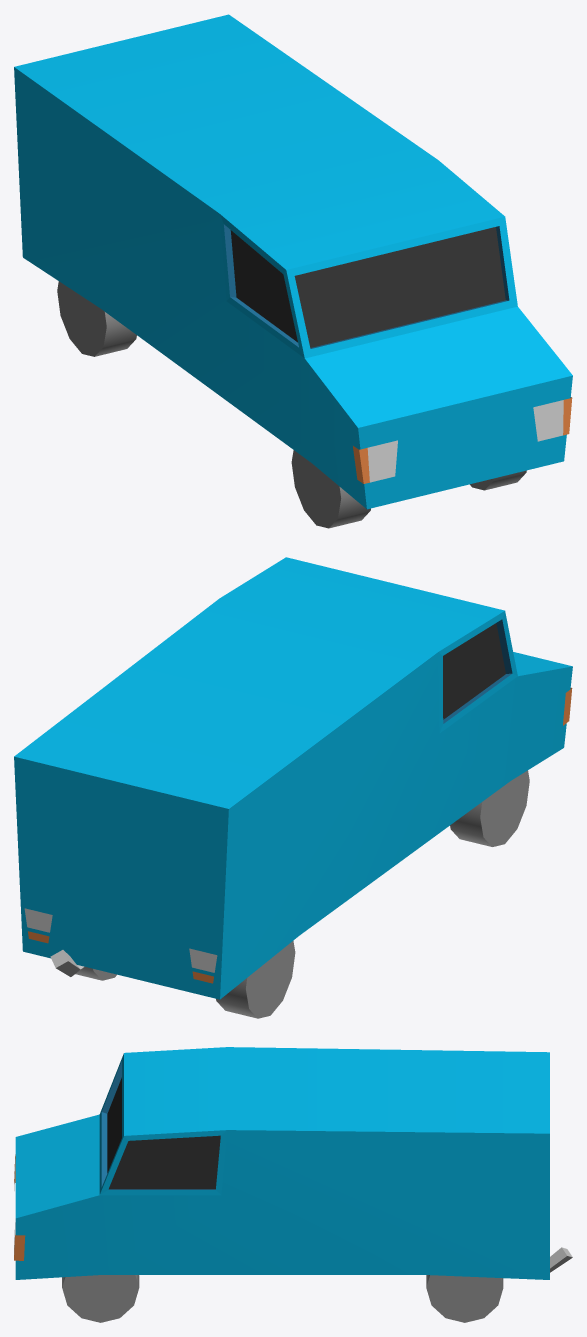
Rendered from van_03.fbx.
3 views of the same model, one above another, from view 1: azimuth 30°, elevation 25°; view 2: azimuth 150°, elevation 25°; view 3: azimuth 270°, elevation 25° (orthographic). The views are drawn at different scales.
Visible parts, largest first — view 1: van_03; view 2: van_03; view 3: van_03.
Boxes of the visible parts, box(x1,y1,x2,y2) form: van_03: box(14, 14, 572, 528); van_03: box(14, 557, 572, 1018); van_03: box(14, 1047, 572, 1322).
Size of the model in its own units: 1.61 by 1.8 by 4.59.
